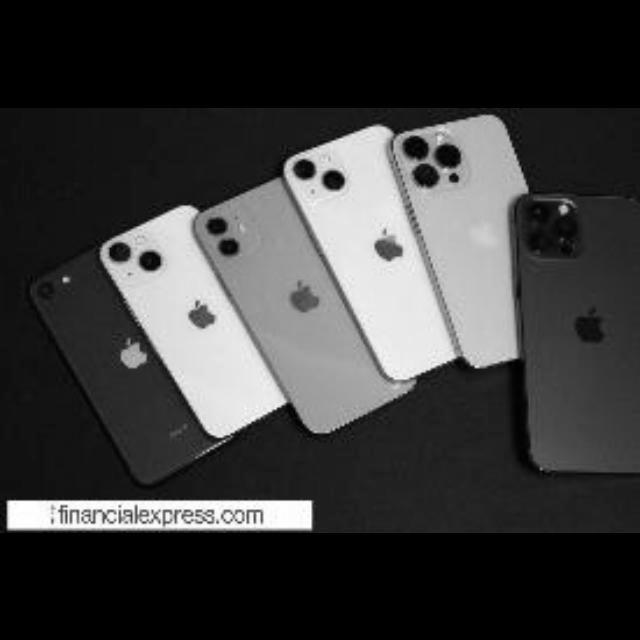fake: (193, 156, 412, 448), (264, 116, 490, 386), (11, 234, 235, 490), (78, 192, 286, 457), (382, 92, 563, 390), (513, 168, 640, 487)
